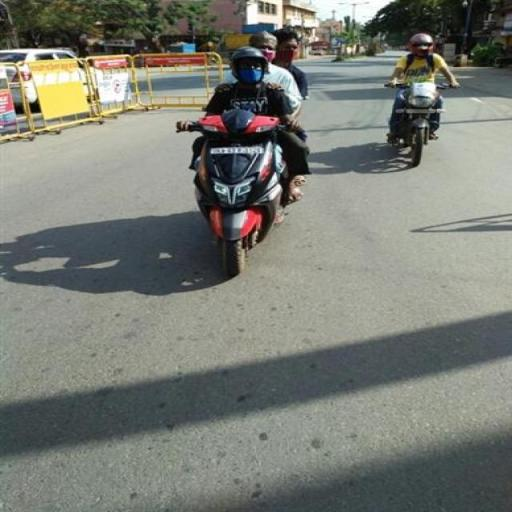tripple riding: (206, 28, 312, 106)
